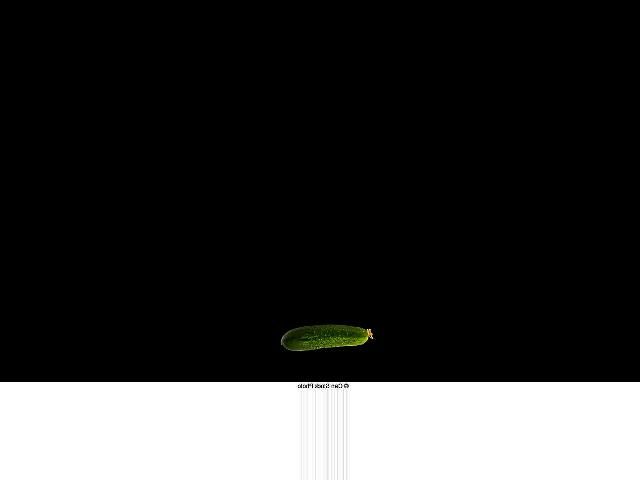cucumber: (280, 324, 372, 351)
